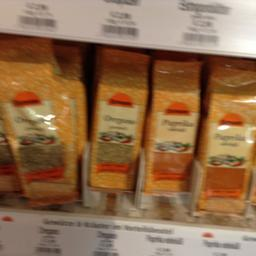spices: (0, 36, 77, 204), (90, 46, 148, 191), (199, 66, 255, 212), (146, 58, 200, 196)
